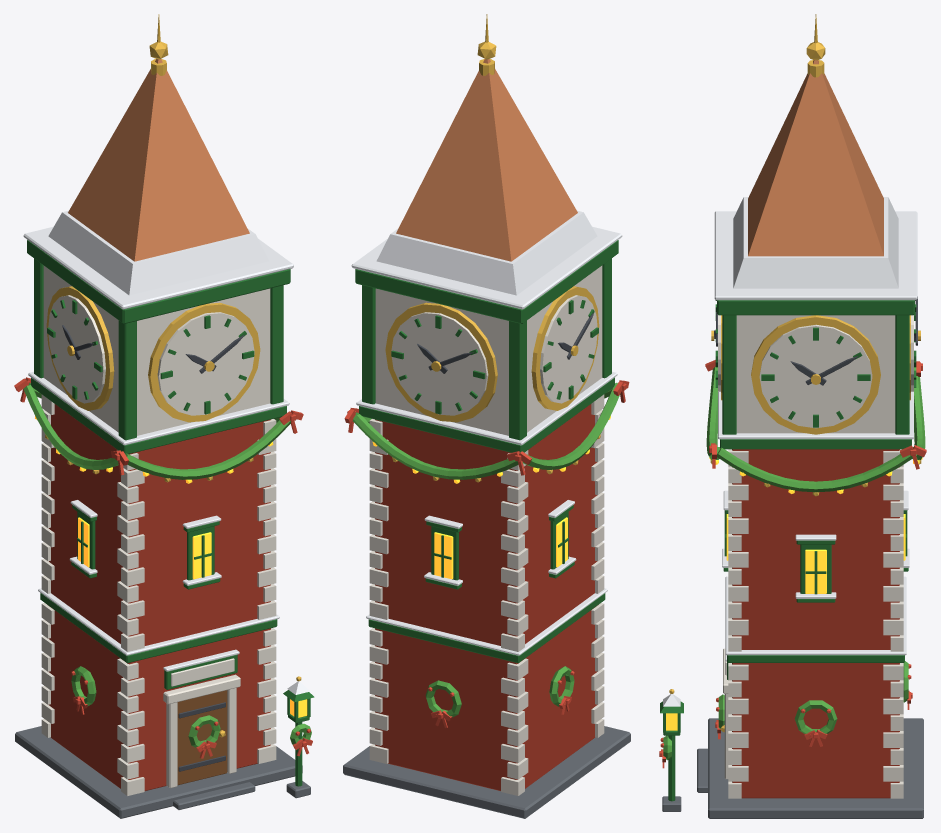
Rendered from christmas-clock-tower.glb.
3 renders of one model, left to right at view 1: azimuth 30°, elevation 25°; view 2: azimuth 150°, elevation 25°; view 3: azimuth 270°, elevation 25°, orthographic. The views are drawn at different scales.
Parts seen in each view (by area): view 1: Tower_Brick, Tower_Cream, Tower_Copper, Tower_FoliageDark, Tower_Snow, Tower_StoneDark, Tower_Gold, Tower_Foliage, Door, Tower_Fire, Tower_PaintRed, Sign (+1 smaller); view 2: Tower_Brick, Tower_Cream, Tower_Copper, Tower_FoliageDark, Tower_Snow, Tower_StoneDark, Tower_Gold, Tower_Foliage, Tower_Fire, Tower_PaintRed; view 3: Tower_Brick, Tower_Cream, Tower_Copper, Tower_Snow, Tower_FoliageDark, Tower_StoneDark, Tower_Foliage, Tower_Gold, Tower_Fire, Tower_PaintRed.
Part boxes in pixels (x1,y1,x2,y2): Tower_Brick: (48,404,270,790); Tower_Cream: (41,265,276,795); Tower_Copper: (68,59,249,261); Tower_FoliageDark: (27,240,314,786); Tower_Snow: (23,210,310,694); Tower_StoneDark: (15,726,310,818); Tower_Gold: (45,14,301,681); Tower_Foliage: (23,383,311,744); Door: (177,690,227,785); Tower_Fire: (35,416,273,579); Tower_PaintRed: (14,377,312,756); Sign: (171,658,234,686); Tower_Brick: (375,404,597,790); Tower_Cream: (369,265,604,795); Tower_Copper: (396,59,577,261); Tower_FoliageDark: (355,240,618,663); Tower_Snow: (351,210,622,655); Tower_StoneDark: (343,726,630,818); Tower_Gold: (385,14,600,482); Tower_Foliage: (353,382,620,717); Tower_Fire: (372,415,610,579); Tower_PaintRed: (344,380,629,727); Tower_Brick: (732,449,899,798); Tower_Cream: (718,315,913,798); Tower_Copper: (748,60,883,256); Tower_Snow: (663,197,917,706); Tower_FoliageDark: (660,300,916,801); Tower_StoneDark: (662,718,923,818); Tower_Foliage: (663,366,925,760); Tower_Gold: (669,14,921,693); Tower_Fire: (709,457,922,593); Tower_PaintRed: (659,360,926,768).
Size of the model in its own units: 18.43 by 69.8 by 22.27.
